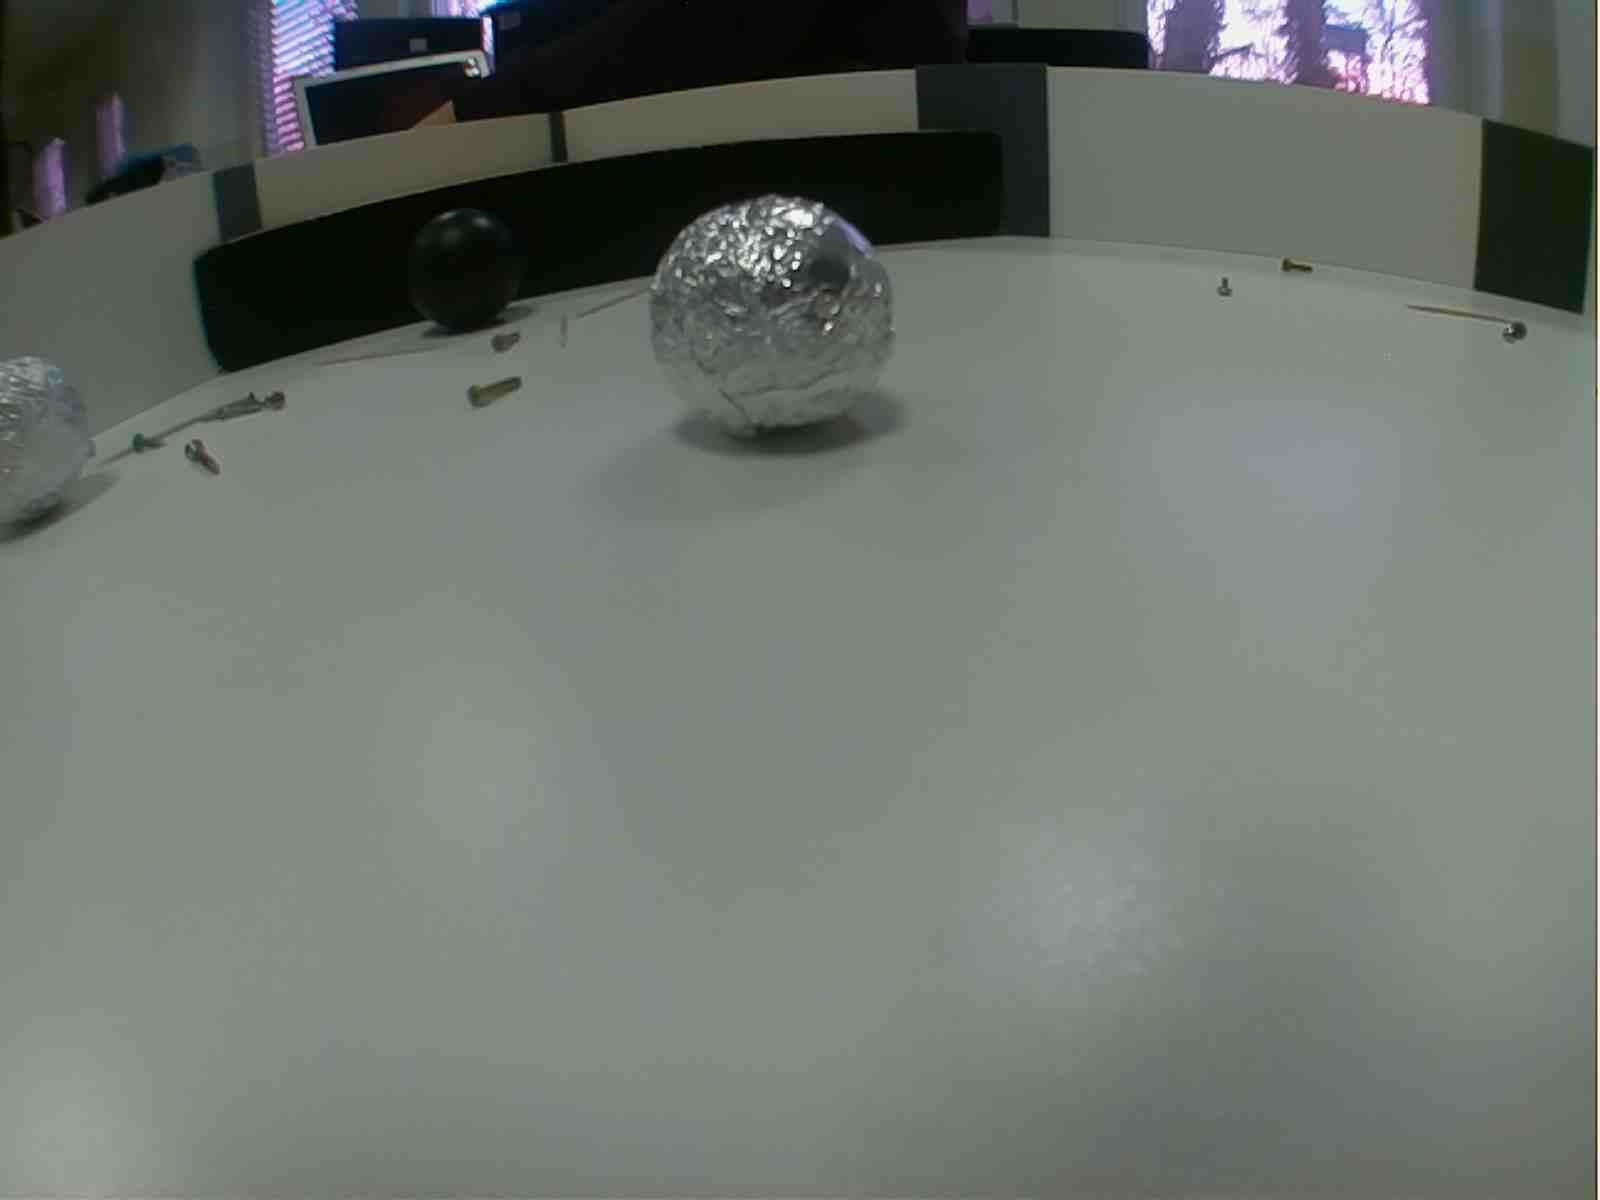bianca: (644, 199, 896, 446), (1, 357, 100, 538)
nera: (406, 202, 517, 340)
